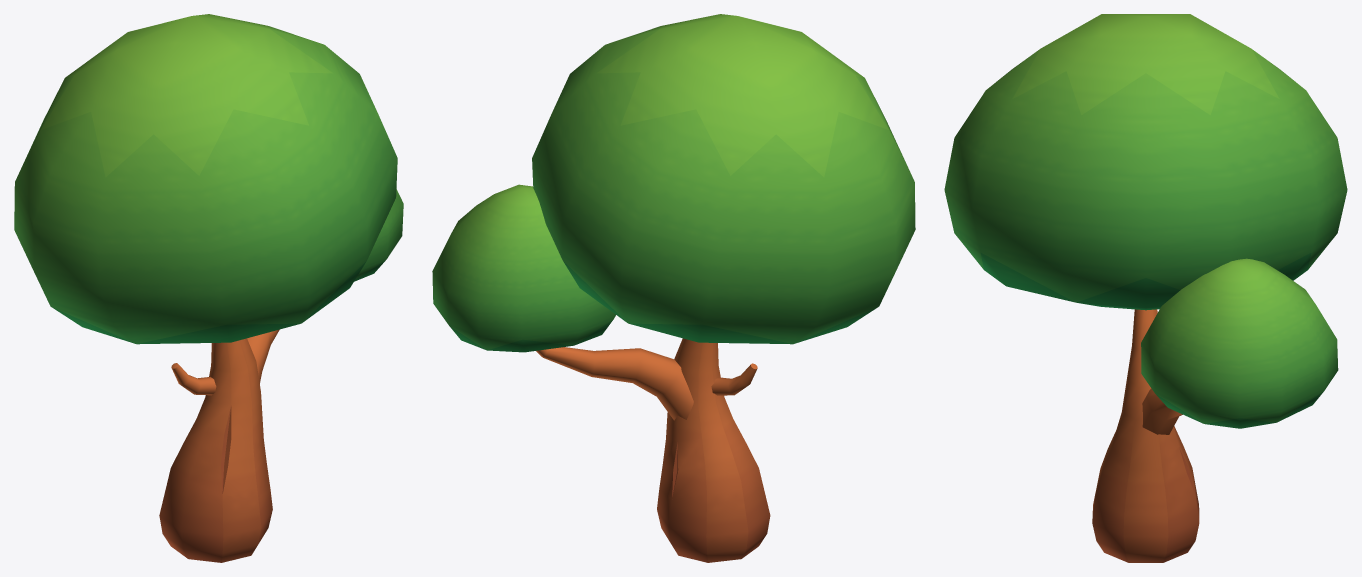
The model's file is Tree_1_B_Color1.gltf.
3 views of the same model, side by side, from view 1: azimuth 30°, elevation 25°; view 2: azimuth 150°, elevation 25°; view 3: azimuth 270°, elevation 25° (orthographic).
Visible parts, largest first — view 1: Tree_1_B_Color1; view 2: Tree_1_B_Color1; view 3: Tree_1_B_Color1.
Boxes of the visible parts, <box> form: Tree_1_B_Color1: <box>14,14,403,562</box>; Tree_1_B_Color1: <box>432,14,915,562</box>; Tree_1_B_Color1: <box>944,14,1347,562</box>.
Bounding box in the file's own units: 4.01 × 4.93 × 3.45.
Materials: 1 (1 with a texture image).
